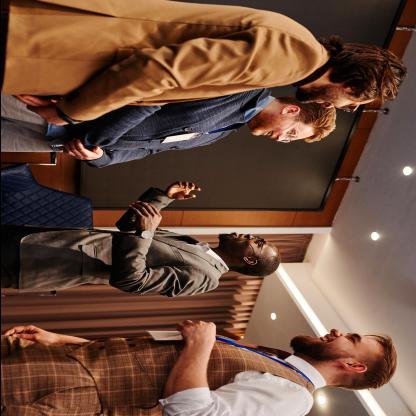Eye: (346, 335, 356, 344), (285, 130, 295, 136), (254, 240, 261, 246)
Mouth: (314, 334, 330, 344), (262, 130, 275, 138), (232, 231, 245, 239)
Nose: (328, 328, 344, 338), (274, 134, 286, 142), (245, 234, 254, 240)
